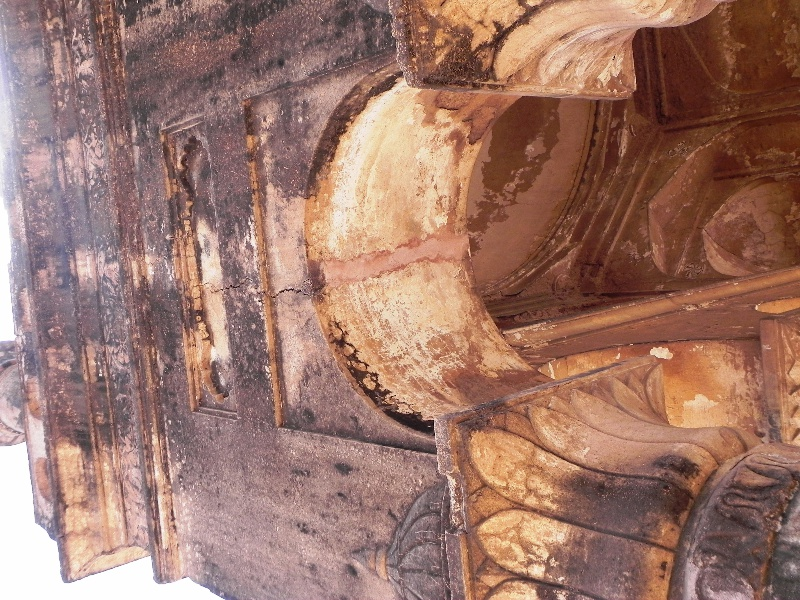Crack: (261, 282, 311, 299)
